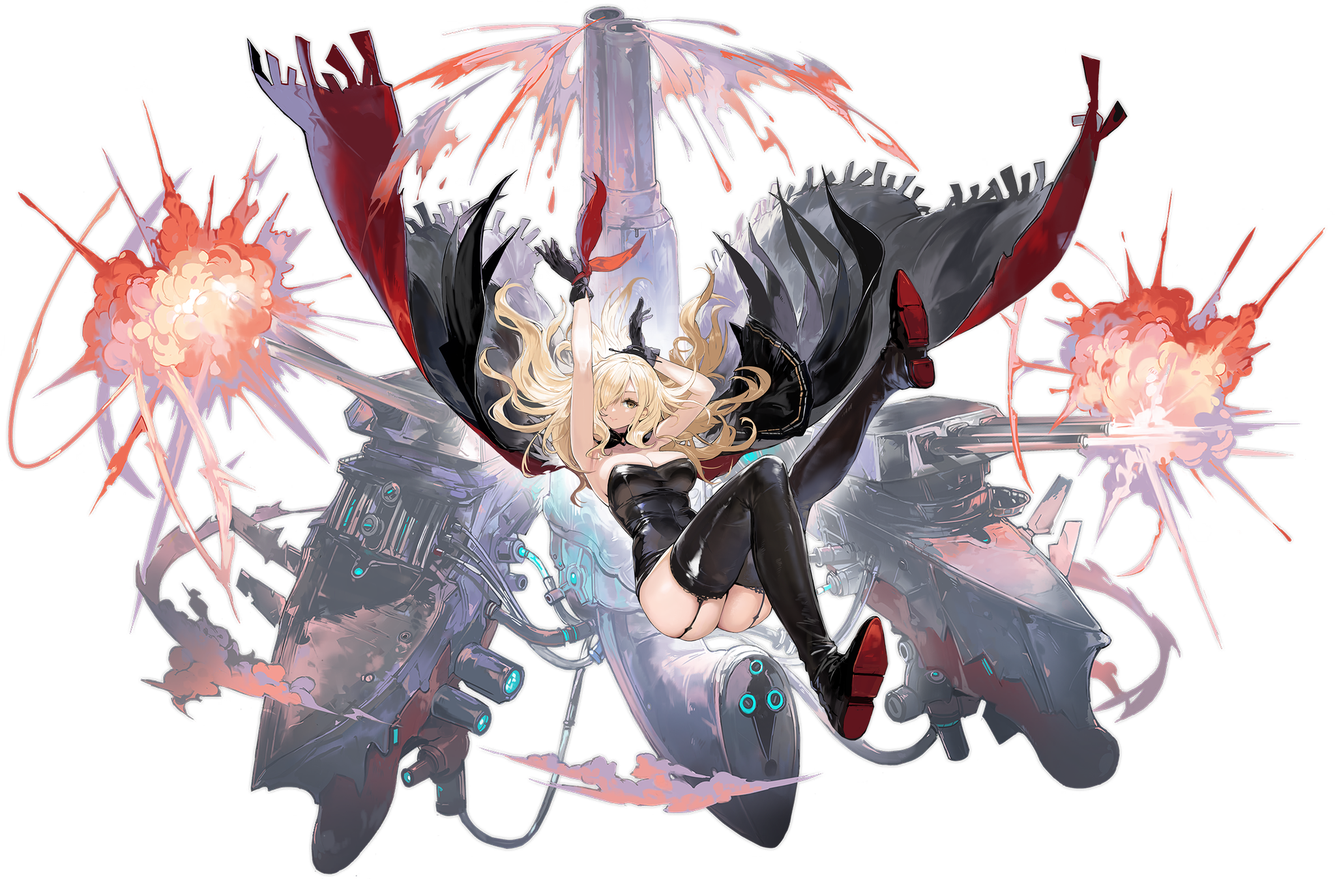person: (412, 248, 1163, 841)
